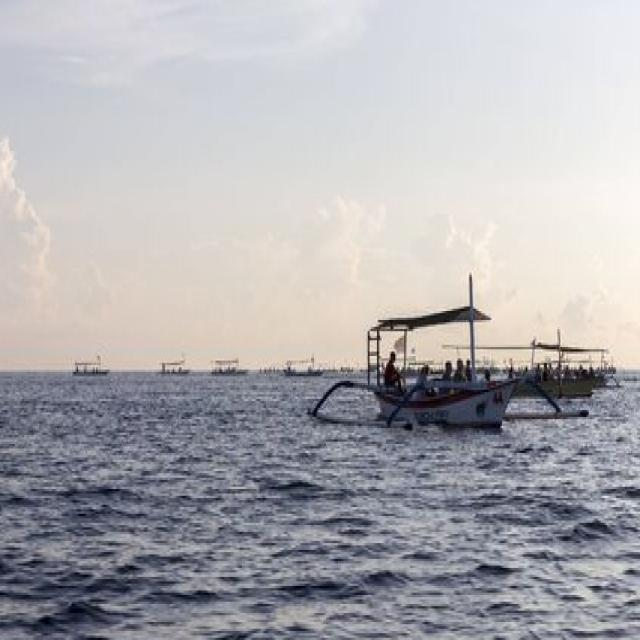fishing boat: (352, 276, 523, 428)
